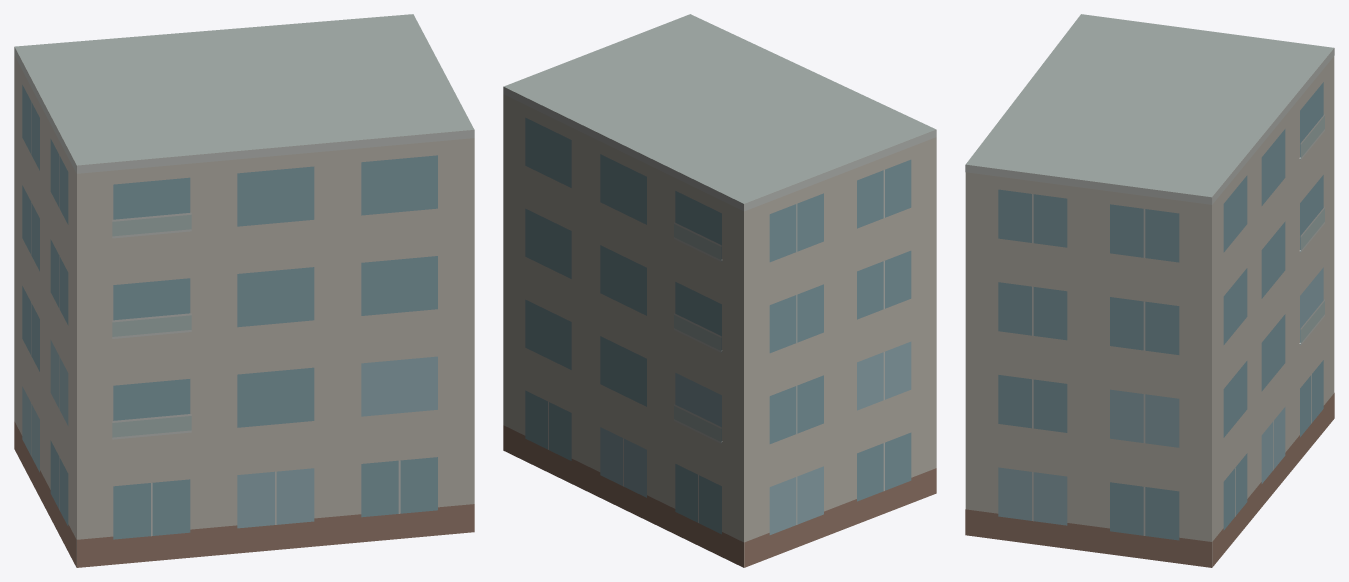
The model's file is survey-upis-32869520.glb.
3 renders of one model, left to right at view 1: azimuth 30°, elevation 25°; view 2: azimuth 150°, elevation 25°; view 3: azimuth 270°, elevation 25°, orthographic. The views are drawn at different scales.
Visible parts, largest first — view 1: survey-upis-32869520.tmp; view 2: survey-upis-32869520.tmp; view 3: survey-upis-32869520.tmp.
Boxes of the visible parts, bbox=[...] form: survey-upis-32869520.tmp: bbox=[14, 14, 474, 567]; survey-upis-32869520.tmp: bbox=[503, 14, 936, 567]; survey-upis-32869520.tmp: bbox=[965, 14, 1334, 567].
Bounding box in the file's own units: 12.52 × 11.8 × 10.66.
